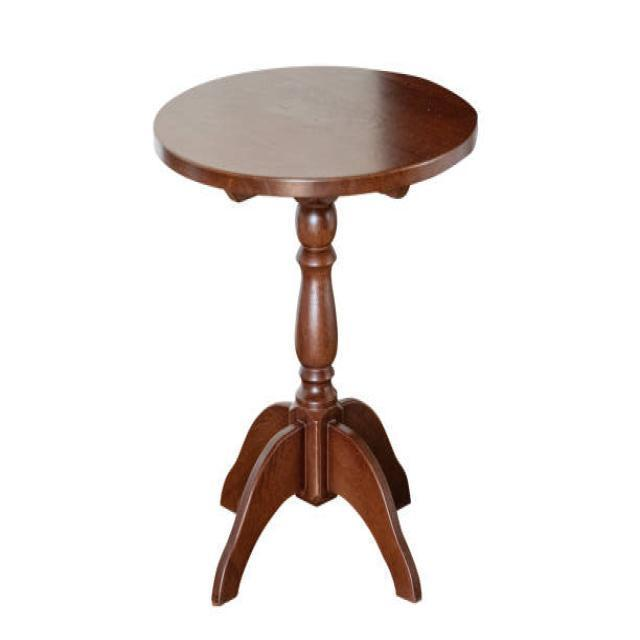table: (152, 63, 480, 606)
